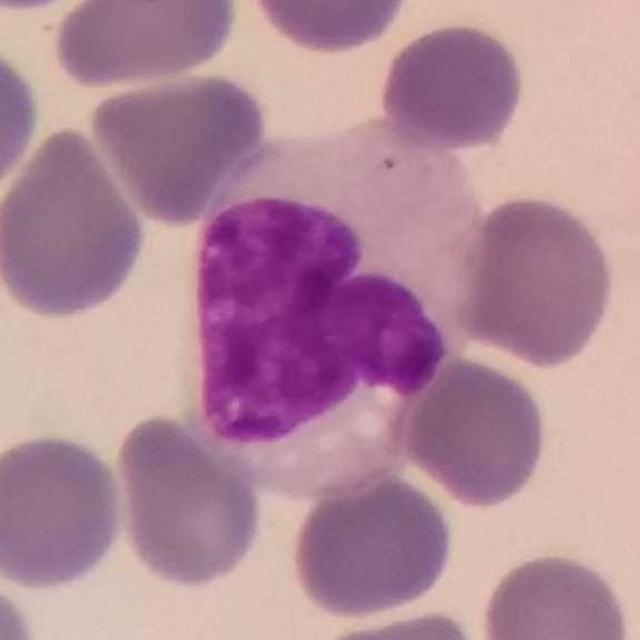mono: (168, 109, 500, 519)
